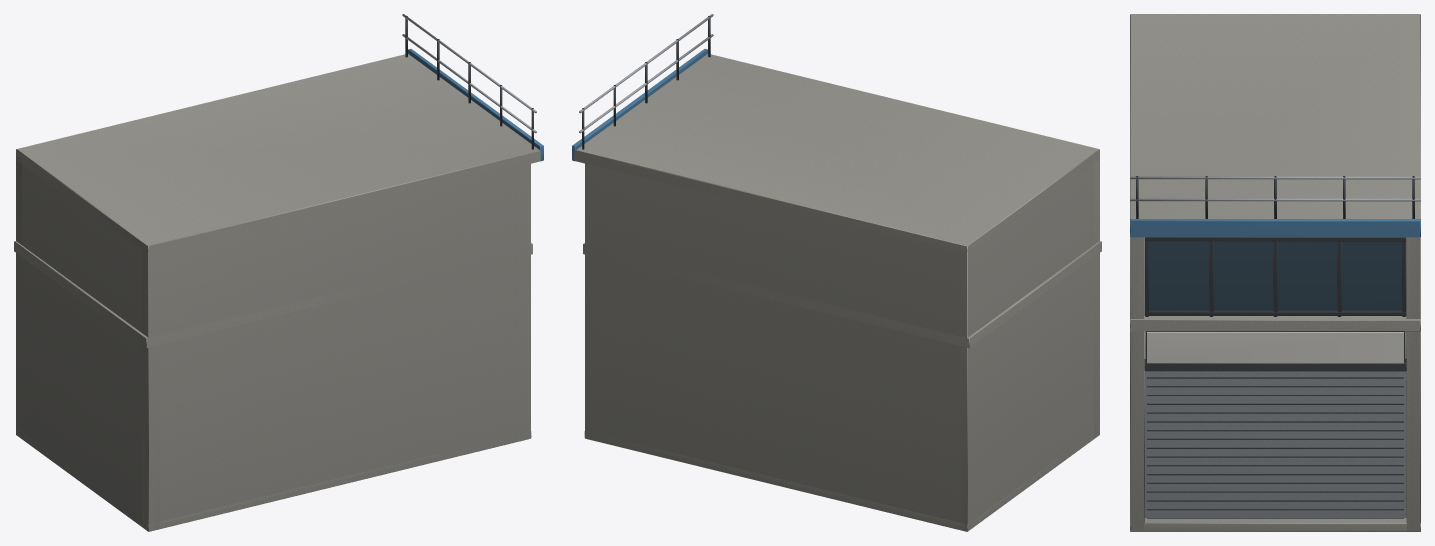
Rendered from pit-garage_high.glb.
The picture shows the model from 3 angles, left to right: view 1: azimuth 30°, elevation 25°; view 2: azimuth 150°, elevation 25°; view 3: azimuth 270°, elevation 25°; orthographic projection. The views are drawn at different scales.
Parts seen in each view (by area): view 1: concrete, paint-band, galvanised; view 2: concrete, paint-band, galvanised; view 3: concrete, galvanised, glazing, dark-steel, board-face, paint-band.
Part boxes in pixels (x1,y1,x2,y2): concrete: (14, 54, 540, 531); paint-band: (408, 49, 543, 161); galvanised: (402, 14, 536, 133); concrete: (573, 54, 1101, 531); paint-band: (572, 49, 707, 161); galvanised: (579, 14, 713, 133); concrete: (1130, 14, 1420, 531); galvanised: (1130, 176, 1420, 517); glazing: (1144, 241, 1406, 310); dark-steel: (1136, 176, 1414, 518); board-face: (1147, 332, 1403, 363); paint-band: (1130, 219, 1420, 237).
Size of the model in its own units: 10.38 by 8.15 by 6.
Materials: 7 (5 with a texture image).
